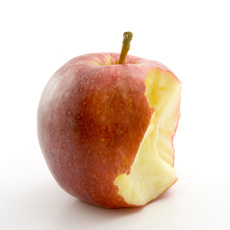apple: (36, 30, 184, 211)
